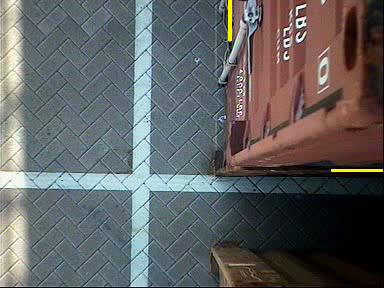groundmarker_2: (2, 19, 147, 103)
